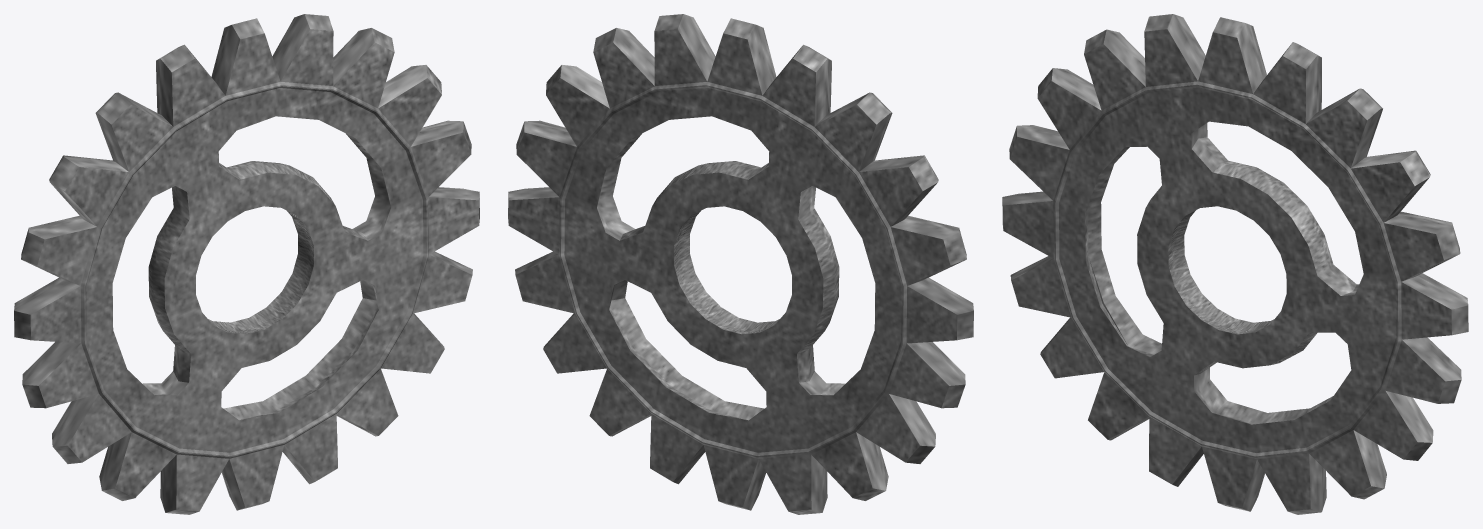
File: cog04.FBX
3 renders of one model, left to right at view 1: azimuth 30°, elevation 25°; view 2: azimuth 150°, elevation 25°; view 3: azimuth 330°, elevation 25°, orthographic.
Visible parts, largest first — view 1: cog04; view 2: cog04; view 3: cog04.
Boxes of the visible parts, x1,y1,x2,y2 form: cog04: (14,14,479,514); cog04: (508,14,973,514); cog04: (1002,14,1468,514).
Size of the model in its own units: 62.92 by 62.92 by 4.3.
1 material, 1 textured.
